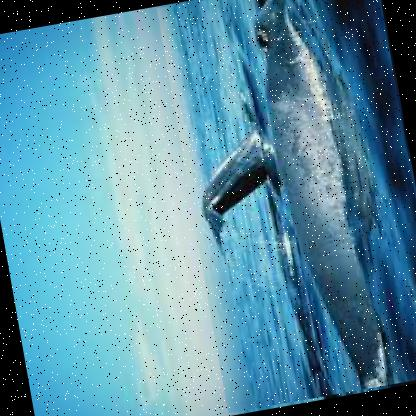blue_whale: (155, 0, 415, 414)
